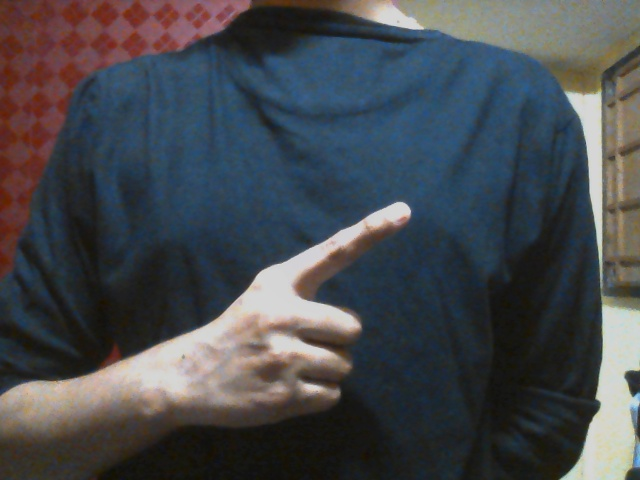I: (198, 201, 413, 428)
